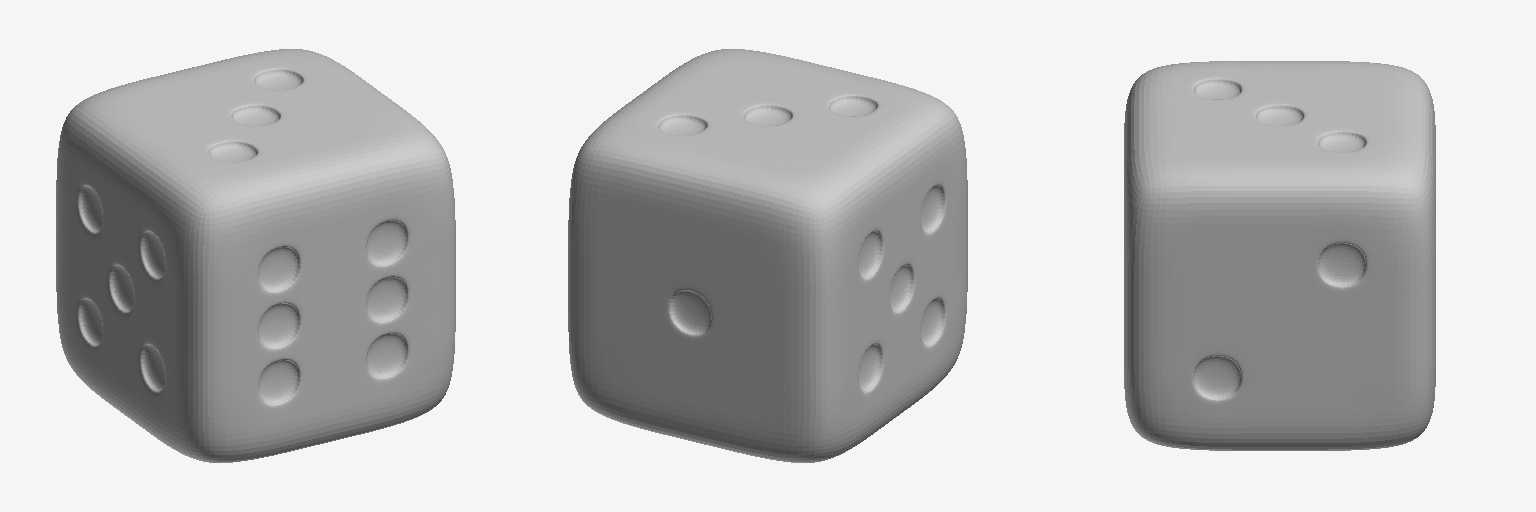
Rendered from dice1.obj.
The picture shows the model from 3 angles: view 1: azimuth 30°, elevation 25°; view 2: azimuth 150°, elevation 25°; view 3: azimuth 270°, elevation 25°; orthographic projection.
Visible parts, largest first — view 1: Dice002; view 2: Dice002; view 3: Dice002.
Boxes of the visible parts, x1,y1,x2,y2 form: Dice002: [56, 49, 455, 462]; Dice002: [568, 49, 967, 462]; Dice002: [1124, 61, 1435, 450].
Bounding box in the file's own units: 100 × 100 × 100.